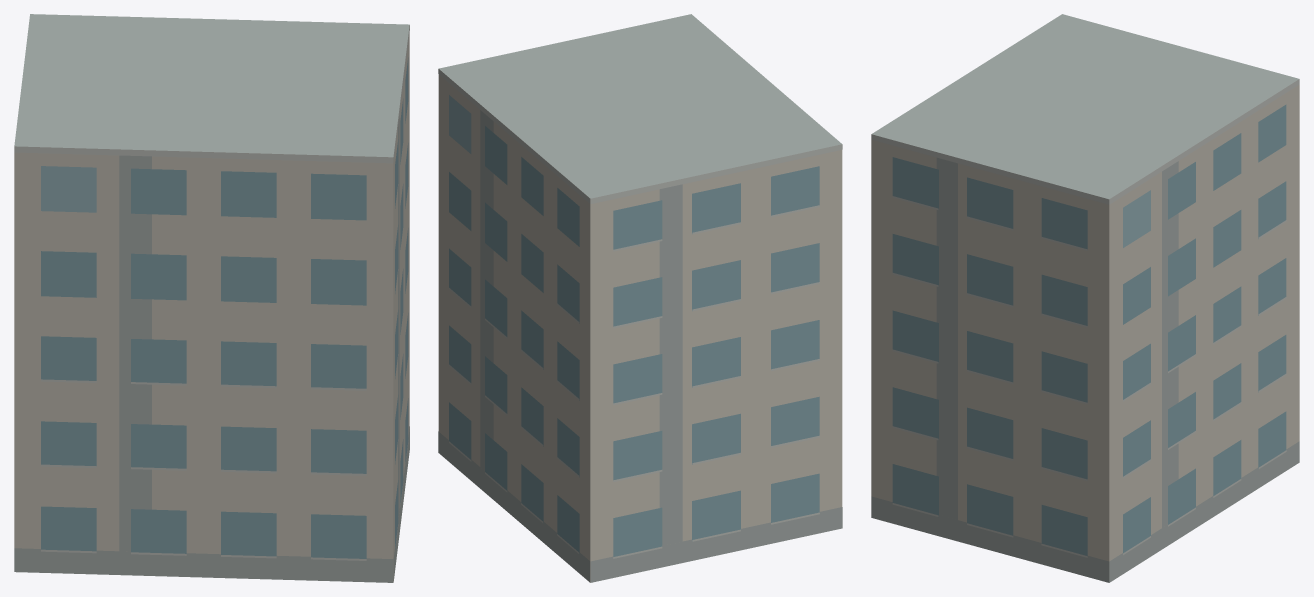
Rendered from survey-upis-32891184.glb.
3 views of the same model, side by side, from view 1: azimuth 30°, elevation 25°; view 2: azimuth 150°, elevation 25°; view 3: azimuth 270°, elevation 25° (orthographic). The views are drawn at different scales.
Parts seen in each view (by area): view 1: survey-upis-32891184.tmp; view 2: survey-upis-32891184.tmp; view 3: survey-upis-32891184.tmp.
Boxes of the visible parts, <box> form: survey-upis-32891184.tmp: <box>14,14,409,582</box>; survey-upis-32891184.tmp: <box>438,14,842,582</box>; survey-upis-32891184.tmp: <box>871,14,1299,582</box>.
Bounding box in the file's own units: 17.69 × 17.06 × 17.27.
